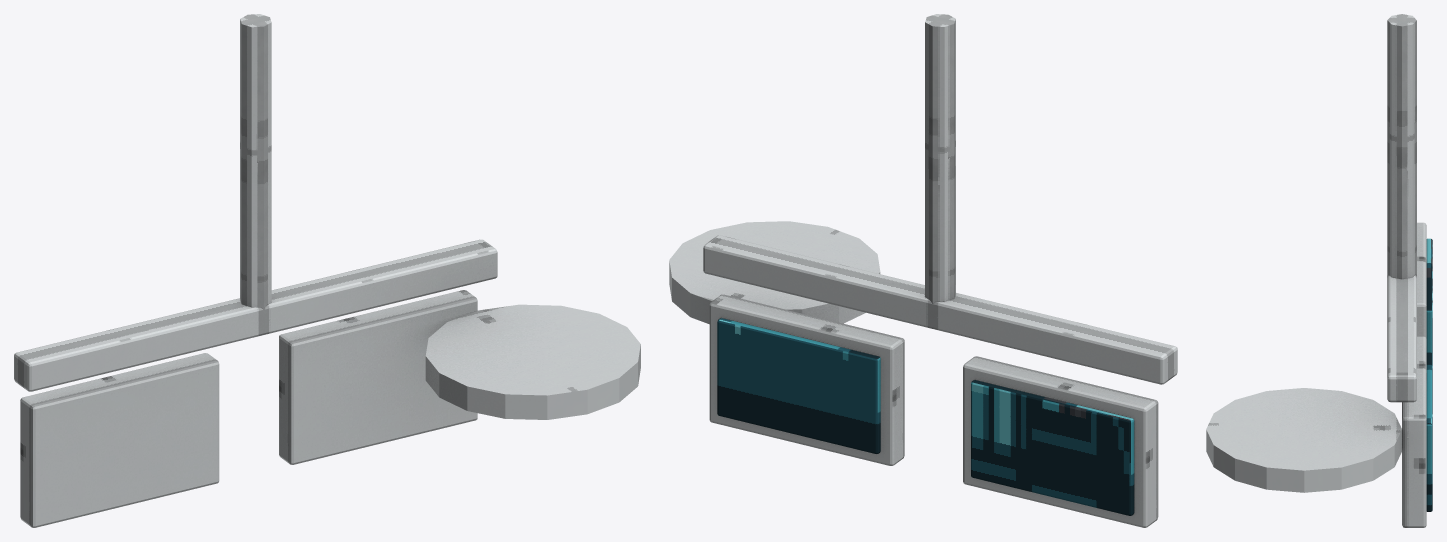
The model's file is base_med_monitor_arm.glb.
The picture shows the model from 3 angles, left to right: view 1: azimuth 30°, elevation 25°; view 2: azimuth 150°, elevation 25°; view 3: azimuth 270°, elevation 25°; orthographic projection. The views are drawn at different scales.
Visible parts, largest first — view 1: base_med_monitor_arm.001; view 2: base_med_monitor_arm.001; view 3: base_med_monitor_arm.001.
Part boxes in pixels (x1,y1,x2,y2): base_med_monitor_arm.001: [14, 14, 640, 527]; base_med_monitor_arm.001: [669, 14, 1177, 527]; base_med_monitor_arm.001: [1206, 14, 1432, 527].
Size of the model in its own units: 2.35 by 1.85 by 0.925.
Materials: 3 (3 with a texture image).
